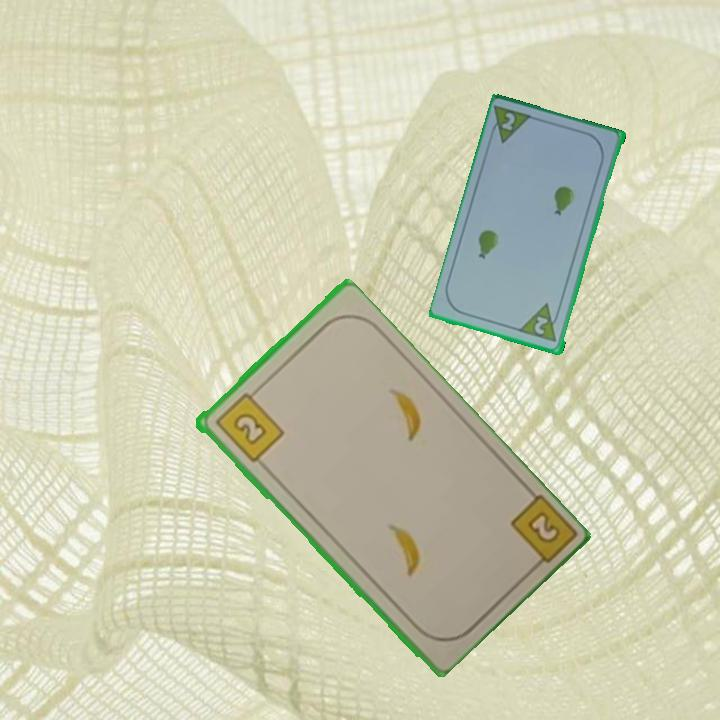2b: (211, 385, 286, 466), (506, 490, 576, 576)
2p: (531, 313, 551, 338), (498, 109, 518, 134)
